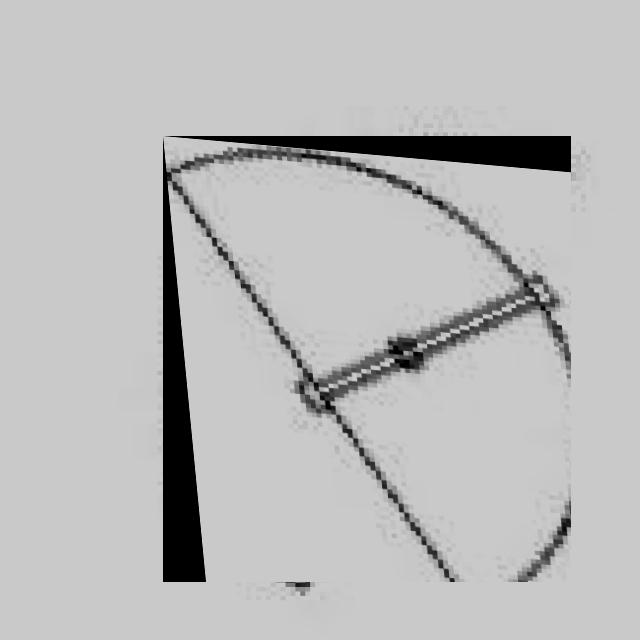door: (163, 137, 571, 582)
